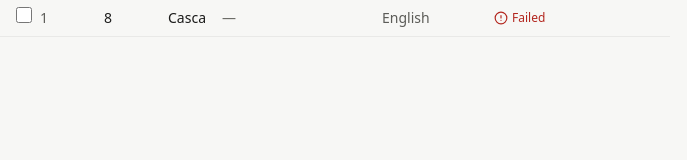
it: chapter row failure tooltip › says a download goes through the proxy when one is in use
Hover over the text "Failed": (520,18) x1=494 y1=10 x2=545 y2=26
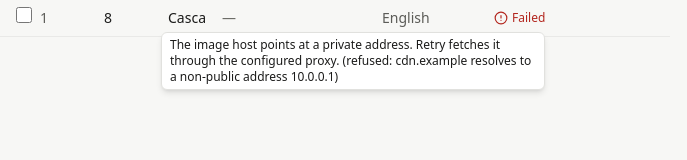
Check: the tooltip shows "Retry fetches it through the configured proxy", box x1=170 y1=36 x2=531 y2=85
Check: the tooltip shows "refused: cdn.example resolves to a non-public address 10.0.0.1", box x1=170 y1=36 x2=531 y2=85
